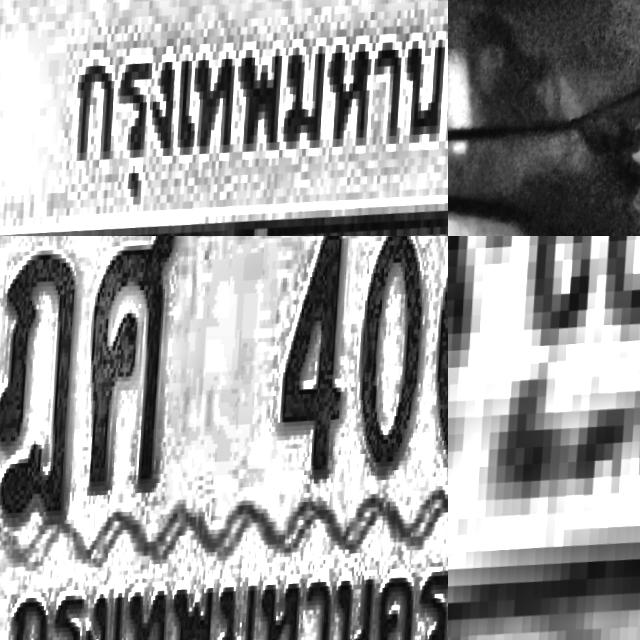license-plate: (0, 236, 448, 640), (0, 0, 448, 236), (448, 236, 640, 640)
